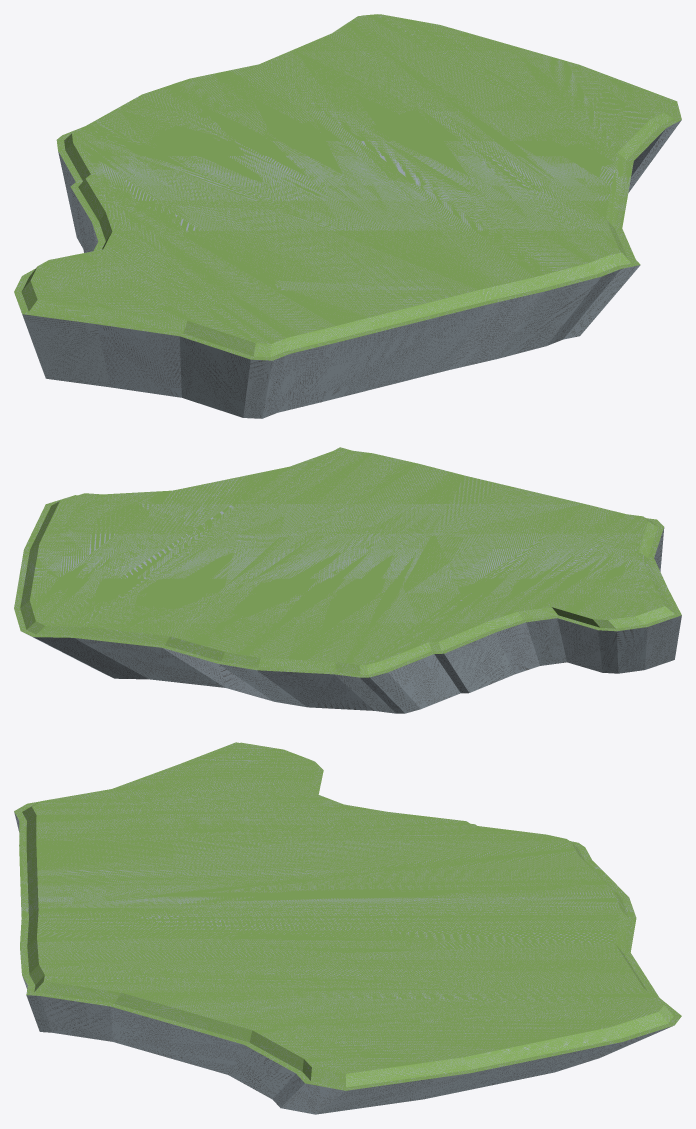
The model's file is Rock_Shelf_Grass_02.fbx.
The picture shows the model from 3 angles, top to bottom: view 1: azimuth 30°, elevation 25°; view 2: azimuth 150°, elevation 25°; view 3: azimuth 270°, elevation 25°; orthographic projection. The views are drawn at different scales.
Parts seen in each view (by area): view 1: Model; view 2: Model; view 3: Model.
Part boxes in pixels (bbox=[...]): Model: bbox=[14, 14, 681, 418]; Model: bbox=[14, 447, 681, 713]; Model: bbox=[14, 742, 681, 1114].
Bounding box in the file's own units: 20019 × 1925 × 16214.
